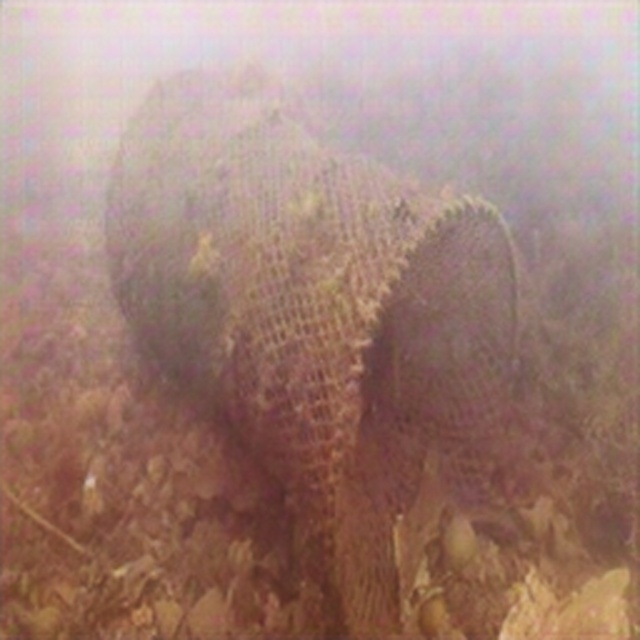mine: (103, 67, 519, 639)
